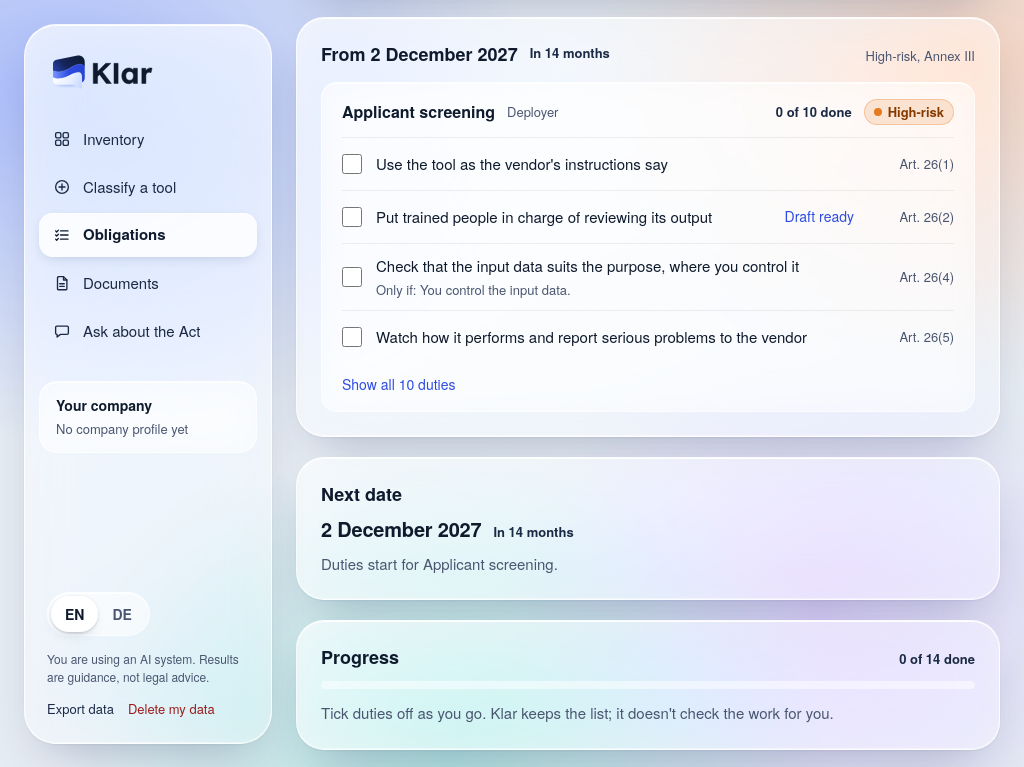
Test: the duty rows at 390 px › keep each duty readable beside "Draft ready" and its citation (en, by date)
The image size is (1024, 767).
(page scrolled)
Step 1. Click the button "Show all 10 duties" → click(399, 385), box [342,375,456,395]
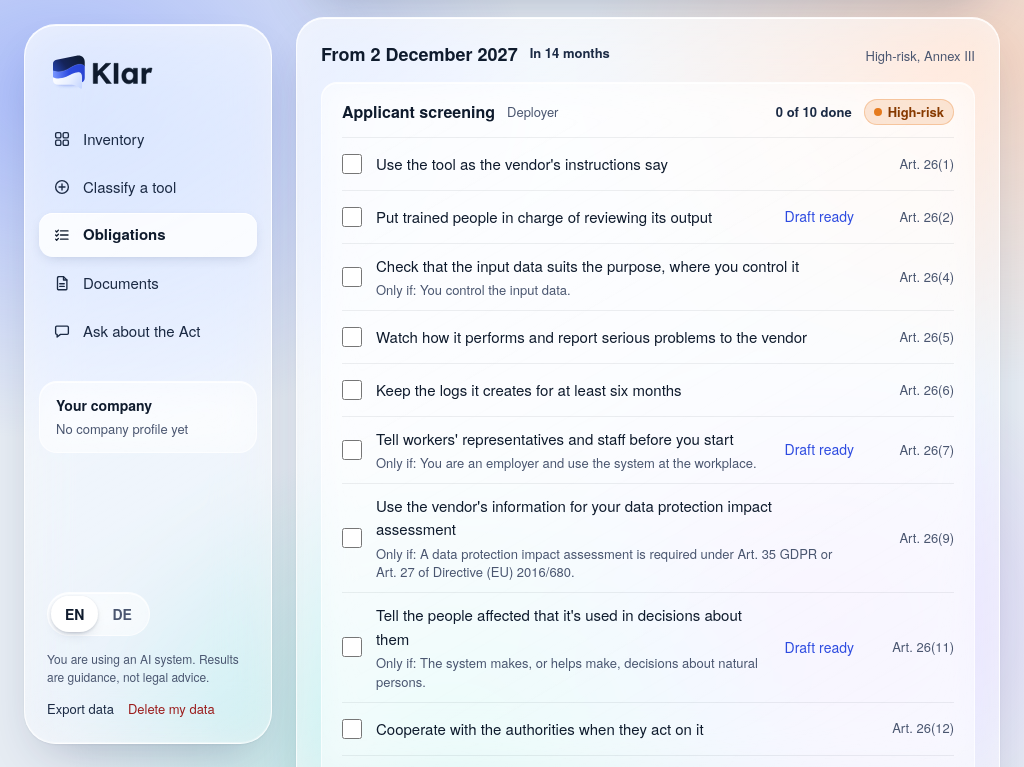
Expected: the number of links "Draft ready" is 5
